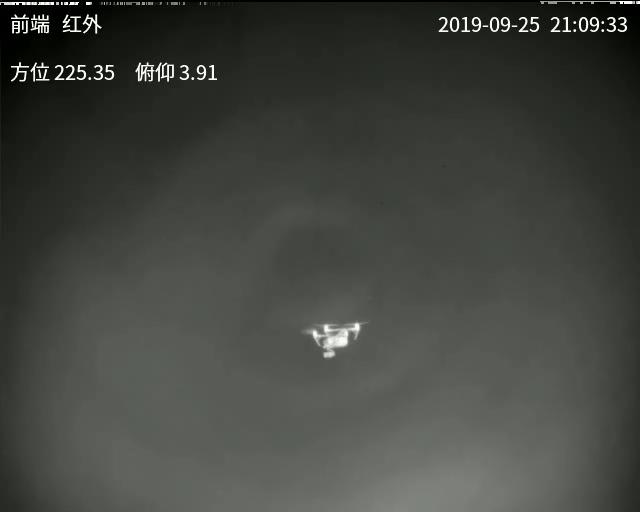uav: (305, 320, 364, 360)
